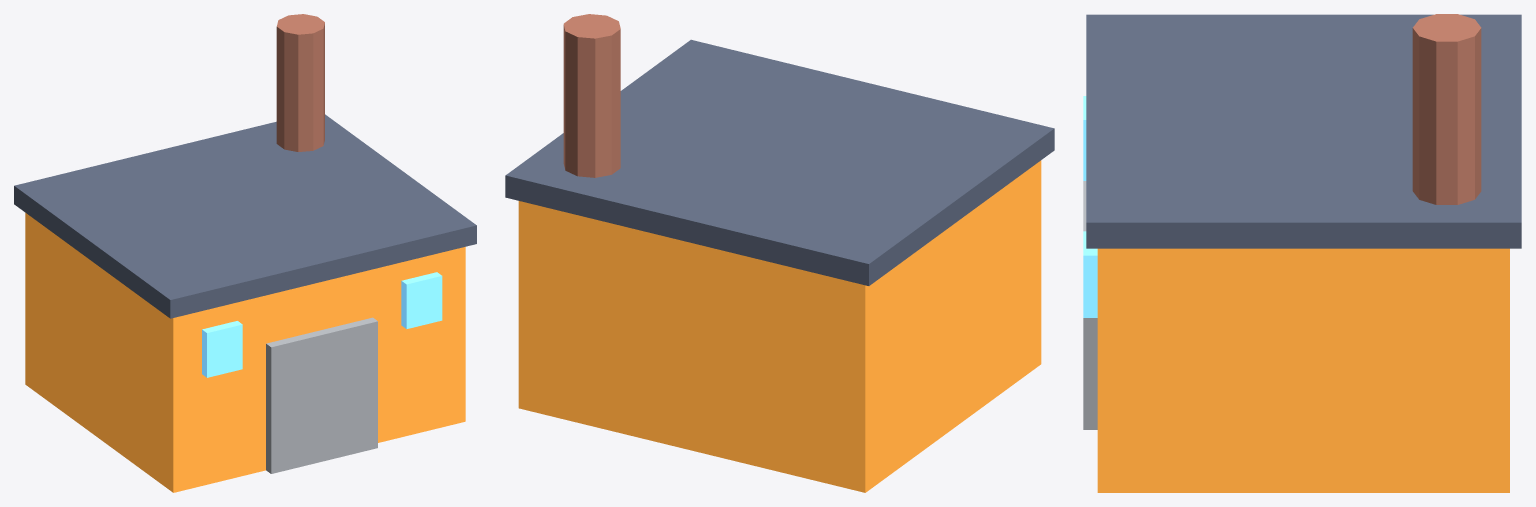
The model's file is factory_s.glb.
3 views of the same model, side by side, from view 1: azimuth 30°, elevation 25°; view 2: azimuth 150°, elevation 25°; view 3: azimuth 270°, elevation 25° (orthographic). The views are drawn at different scales.
Parts seen in each view (by area): view 1: factory_s; view 2: factory_s; view 3: factory_s.
Part boxes in pixels (x1=…): factory_s: x1=14, y1=14, x2=476, y2=492; factory_s: x1=505, y1=14, x2=1054, y2=492; factory_s: x1=1083, y1=14, x2=1521, y2=492.
Size of the model in its own units: 0.86 by 0.845 by 0.765.
